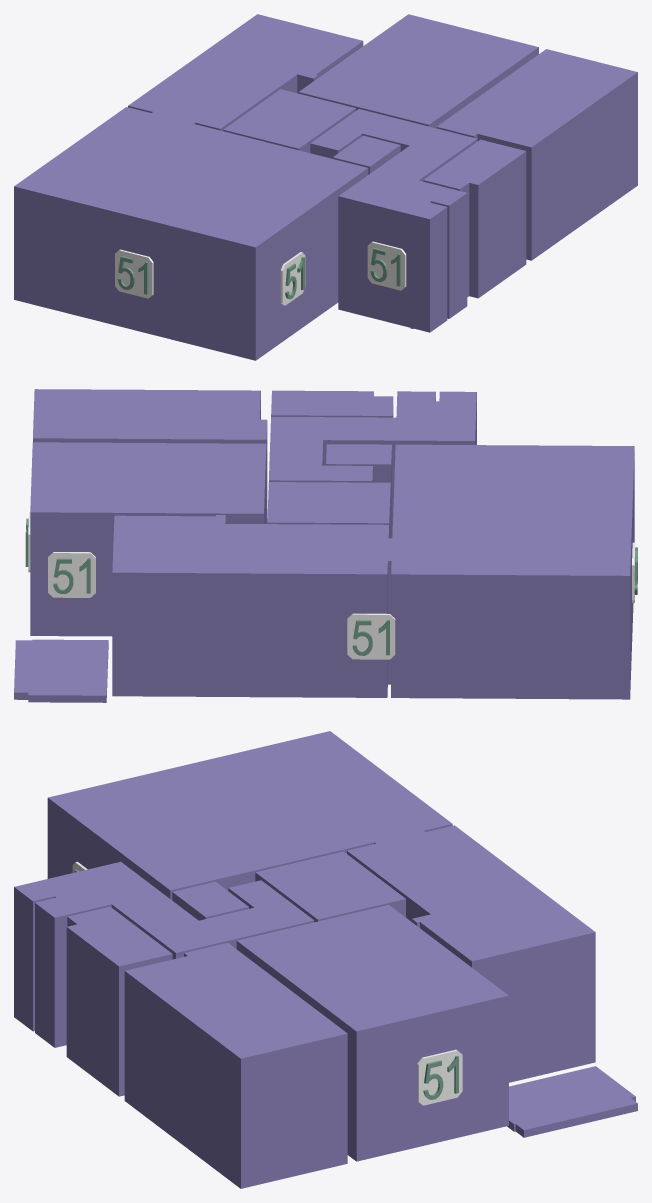
3 views of the same model, one above another, from view 1: azimuth 30°, elevation 25°; view 2: azimuth 150°, elevation 25°; view 3: azimuth 270°, elevation 25° (orthographic). The views are drawn at different scales.
Visible parts, largest first — view 1: g_1, g_4, g_7, g_3, g_0, g_5, g_2, g_6, g_14, g_23, g_20; view 2: g_1, g_0, g_3, g_4, g_7, g_8, g_2, g_5, g_6, g_11, g_17; view 3: g_4, g_1, g_3, g_0, g_7, g_5, g_8, g_2, g_6, g_26.
Boxes of the visible parts, bbox=[...] form: g_1: bbox=[14, 107, 368, 360]; g_4: bbox=[436, 49, 637, 260]; g_7: bbox=[310, 109, 477, 332]; g_3: bbox=[298, 14, 538, 128]; g_0: bbox=[128, 14, 363, 130]; g_5: bbox=[423, 139, 526, 298]; g_2: bbox=[223, 89, 355, 152]; g_6: bbox=[332, 135, 400, 174]; g_14: bbox=[367, 241, 406, 290]; g_23: bbox=[115, 249, 153, 298]; g_20: bbox=[280, 252, 305, 305]; g_1: bbox=[389, 444, 634, 699]; g_0: bbox=[112, 515, 390, 697]; g_3: bbox=[30, 442, 266, 636]; g_4: bbox=[33, 389, 267, 523]; g_7: bbox=[269, 391, 476, 537]; g_8: bbox=[14, 639, 108, 702]; g_2: bbox=[267, 482, 390, 538]; g_5: bbox=[271, 390, 393, 417]; g_6: bbox=[326, 444, 391, 538]; g_11: bbox=[347, 613, 395, 659]; g_17: bbox=[48, 552, 95, 597]; g_4: bbox=[124, 943, 347, 1188]; g_1: bbox=[47, 731, 452, 900]; g_3: bbox=[236, 905, 508, 1161]; g_0: bbox=[347, 825, 595, 1082]; g_7: bbox=[14, 861, 314, 1047]; g_5: bbox=[66, 906, 172, 1096]; g_8: bbox=[507, 1066, 637, 1137]; g_2: bbox=[255, 851, 405, 922]; g_6: bbox=[172, 881, 248, 920]; g_26: bbox=[417, 1049, 462, 1105].
Size of the model in its own units: 13.9 by 2.74 by 11.18.
